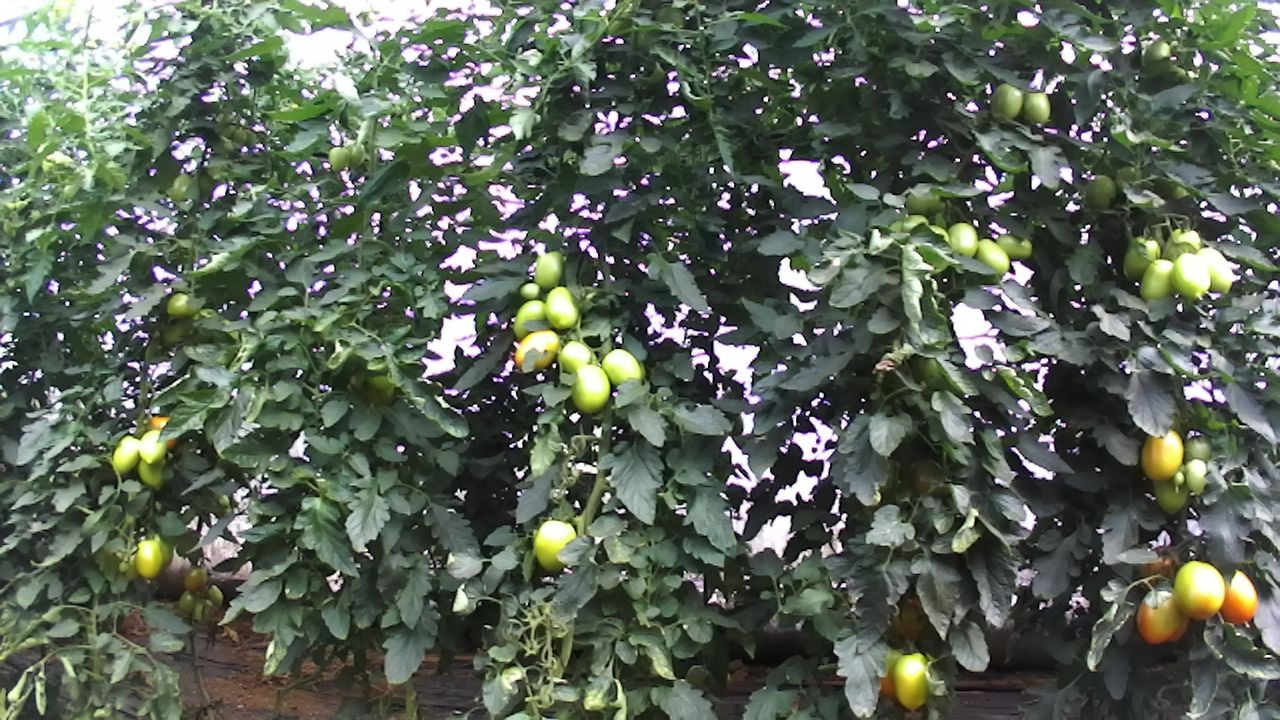tomato: (1173, 558, 1227, 623), (1137, 426, 1184, 484), (532, 518, 577, 575), (1133, 591, 1178, 646), (1219, 565, 1259, 626), (1119, 234, 1163, 286), (569, 362, 611, 416), (892, 650, 928, 713), (1134, 254, 1178, 305), (514, 327, 561, 373), (1170, 250, 1213, 300), (544, 283, 582, 332), (599, 346, 644, 387), (986, 79, 1023, 124), (974, 236, 1012, 276), (133, 538, 165, 582), (110, 433, 142, 476), (556, 339, 593, 376), (533, 249, 565, 291), (162, 288, 197, 322), (947, 220, 978, 258), (994, 232, 1033, 262), (137, 427, 168, 464), (1022, 89, 1052, 126), (1184, 457, 1209, 498), (182, 562, 211, 594), (177, 583, 203, 617), (169, 171, 194, 203), (327, 146, 351, 171), (517, 281, 541, 301)
